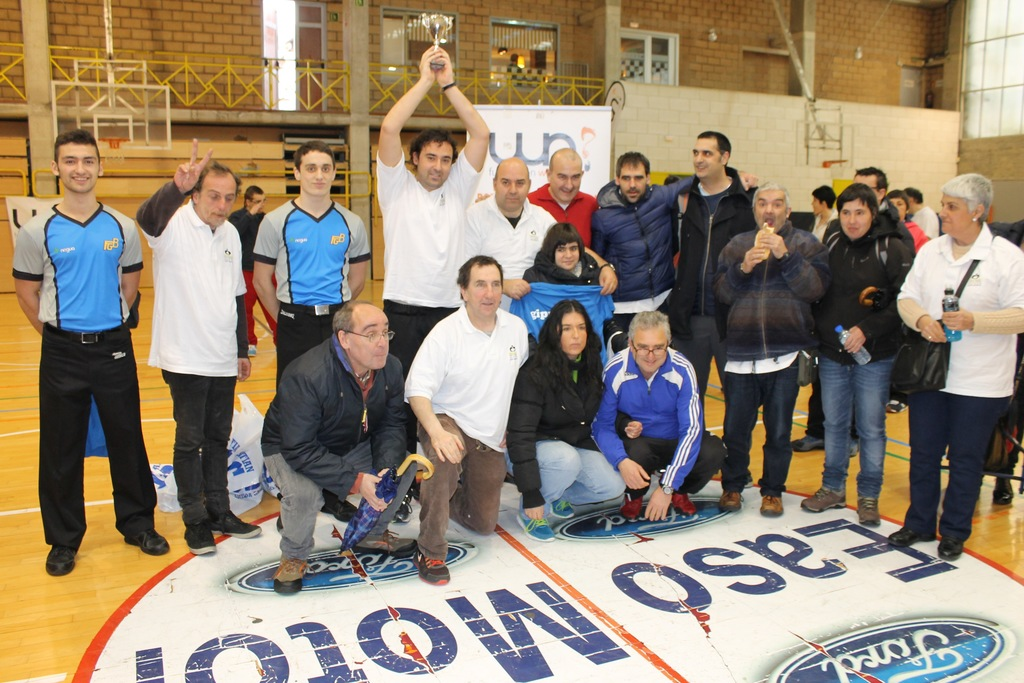Footwear: (786, 479, 845, 518), (348, 524, 415, 555), (126, 527, 176, 559), (515, 506, 561, 540), (987, 465, 1017, 506), (44, 534, 70, 580), (220, 509, 257, 539), (673, 481, 703, 518), (719, 483, 752, 516), (189, 522, 218, 558), (853, 491, 881, 528), (273, 557, 306, 588), (415, 557, 449, 587), (786, 431, 823, 456), (621, 482, 644, 515), (762, 489, 786, 518), (890, 516, 917, 541), (936, 533, 956, 561)
